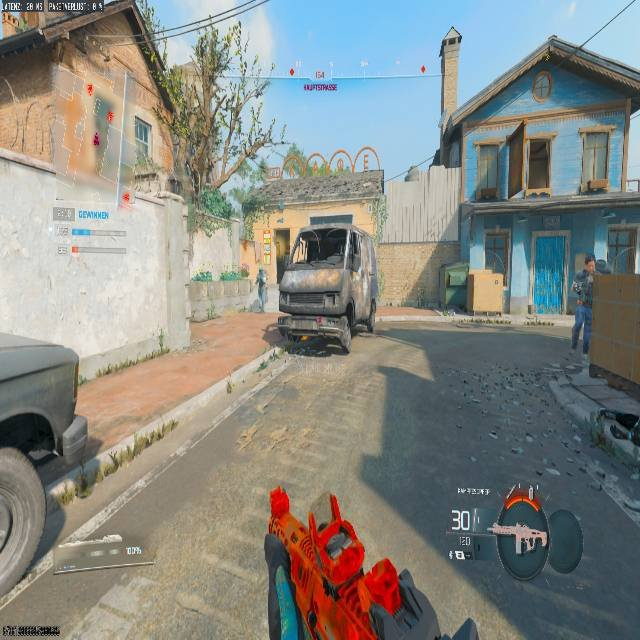head: (580, 256, 596, 274), (584, 254, 595, 269)
player: (569, 254, 606, 353), (251, 266, 269, 312), (256, 267, 267, 304)
